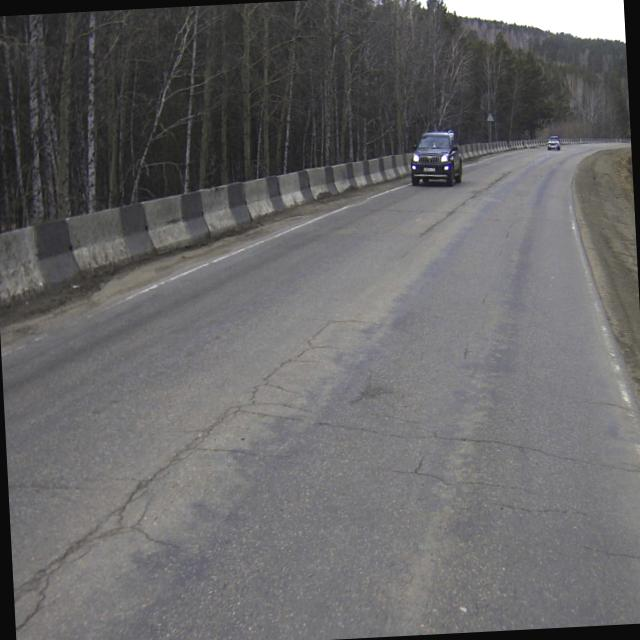road: (2, 143, 640, 640)
